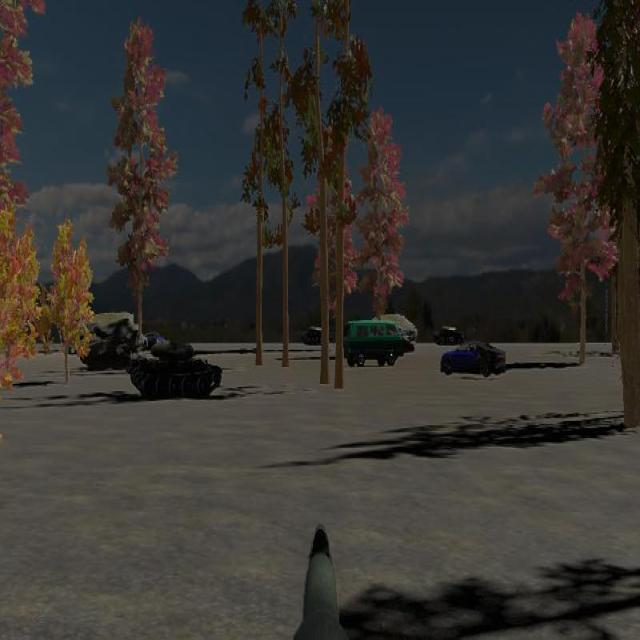Tank: (129, 336, 258, 401)
car: (343, 319, 404, 367), (440, 341, 506, 377)
